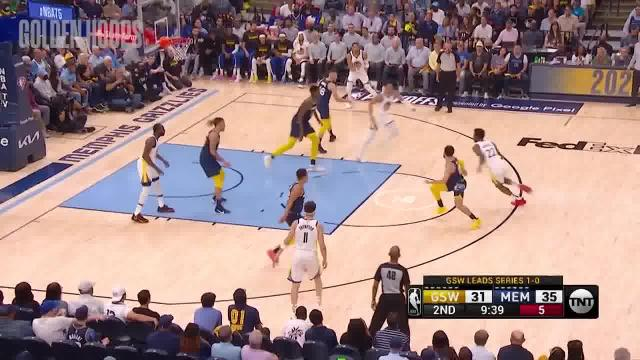ball-handler: (465, 119, 539, 209)
player: (275, 202, 332, 314), (428, 145, 482, 230), (135, 121, 175, 223), (279, 82, 324, 172), (200, 116, 232, 219), (367, 79, 406, 151), (280, 170, 311, 254), (315, 69, 342, 144), (346, 39, 376, 103)
